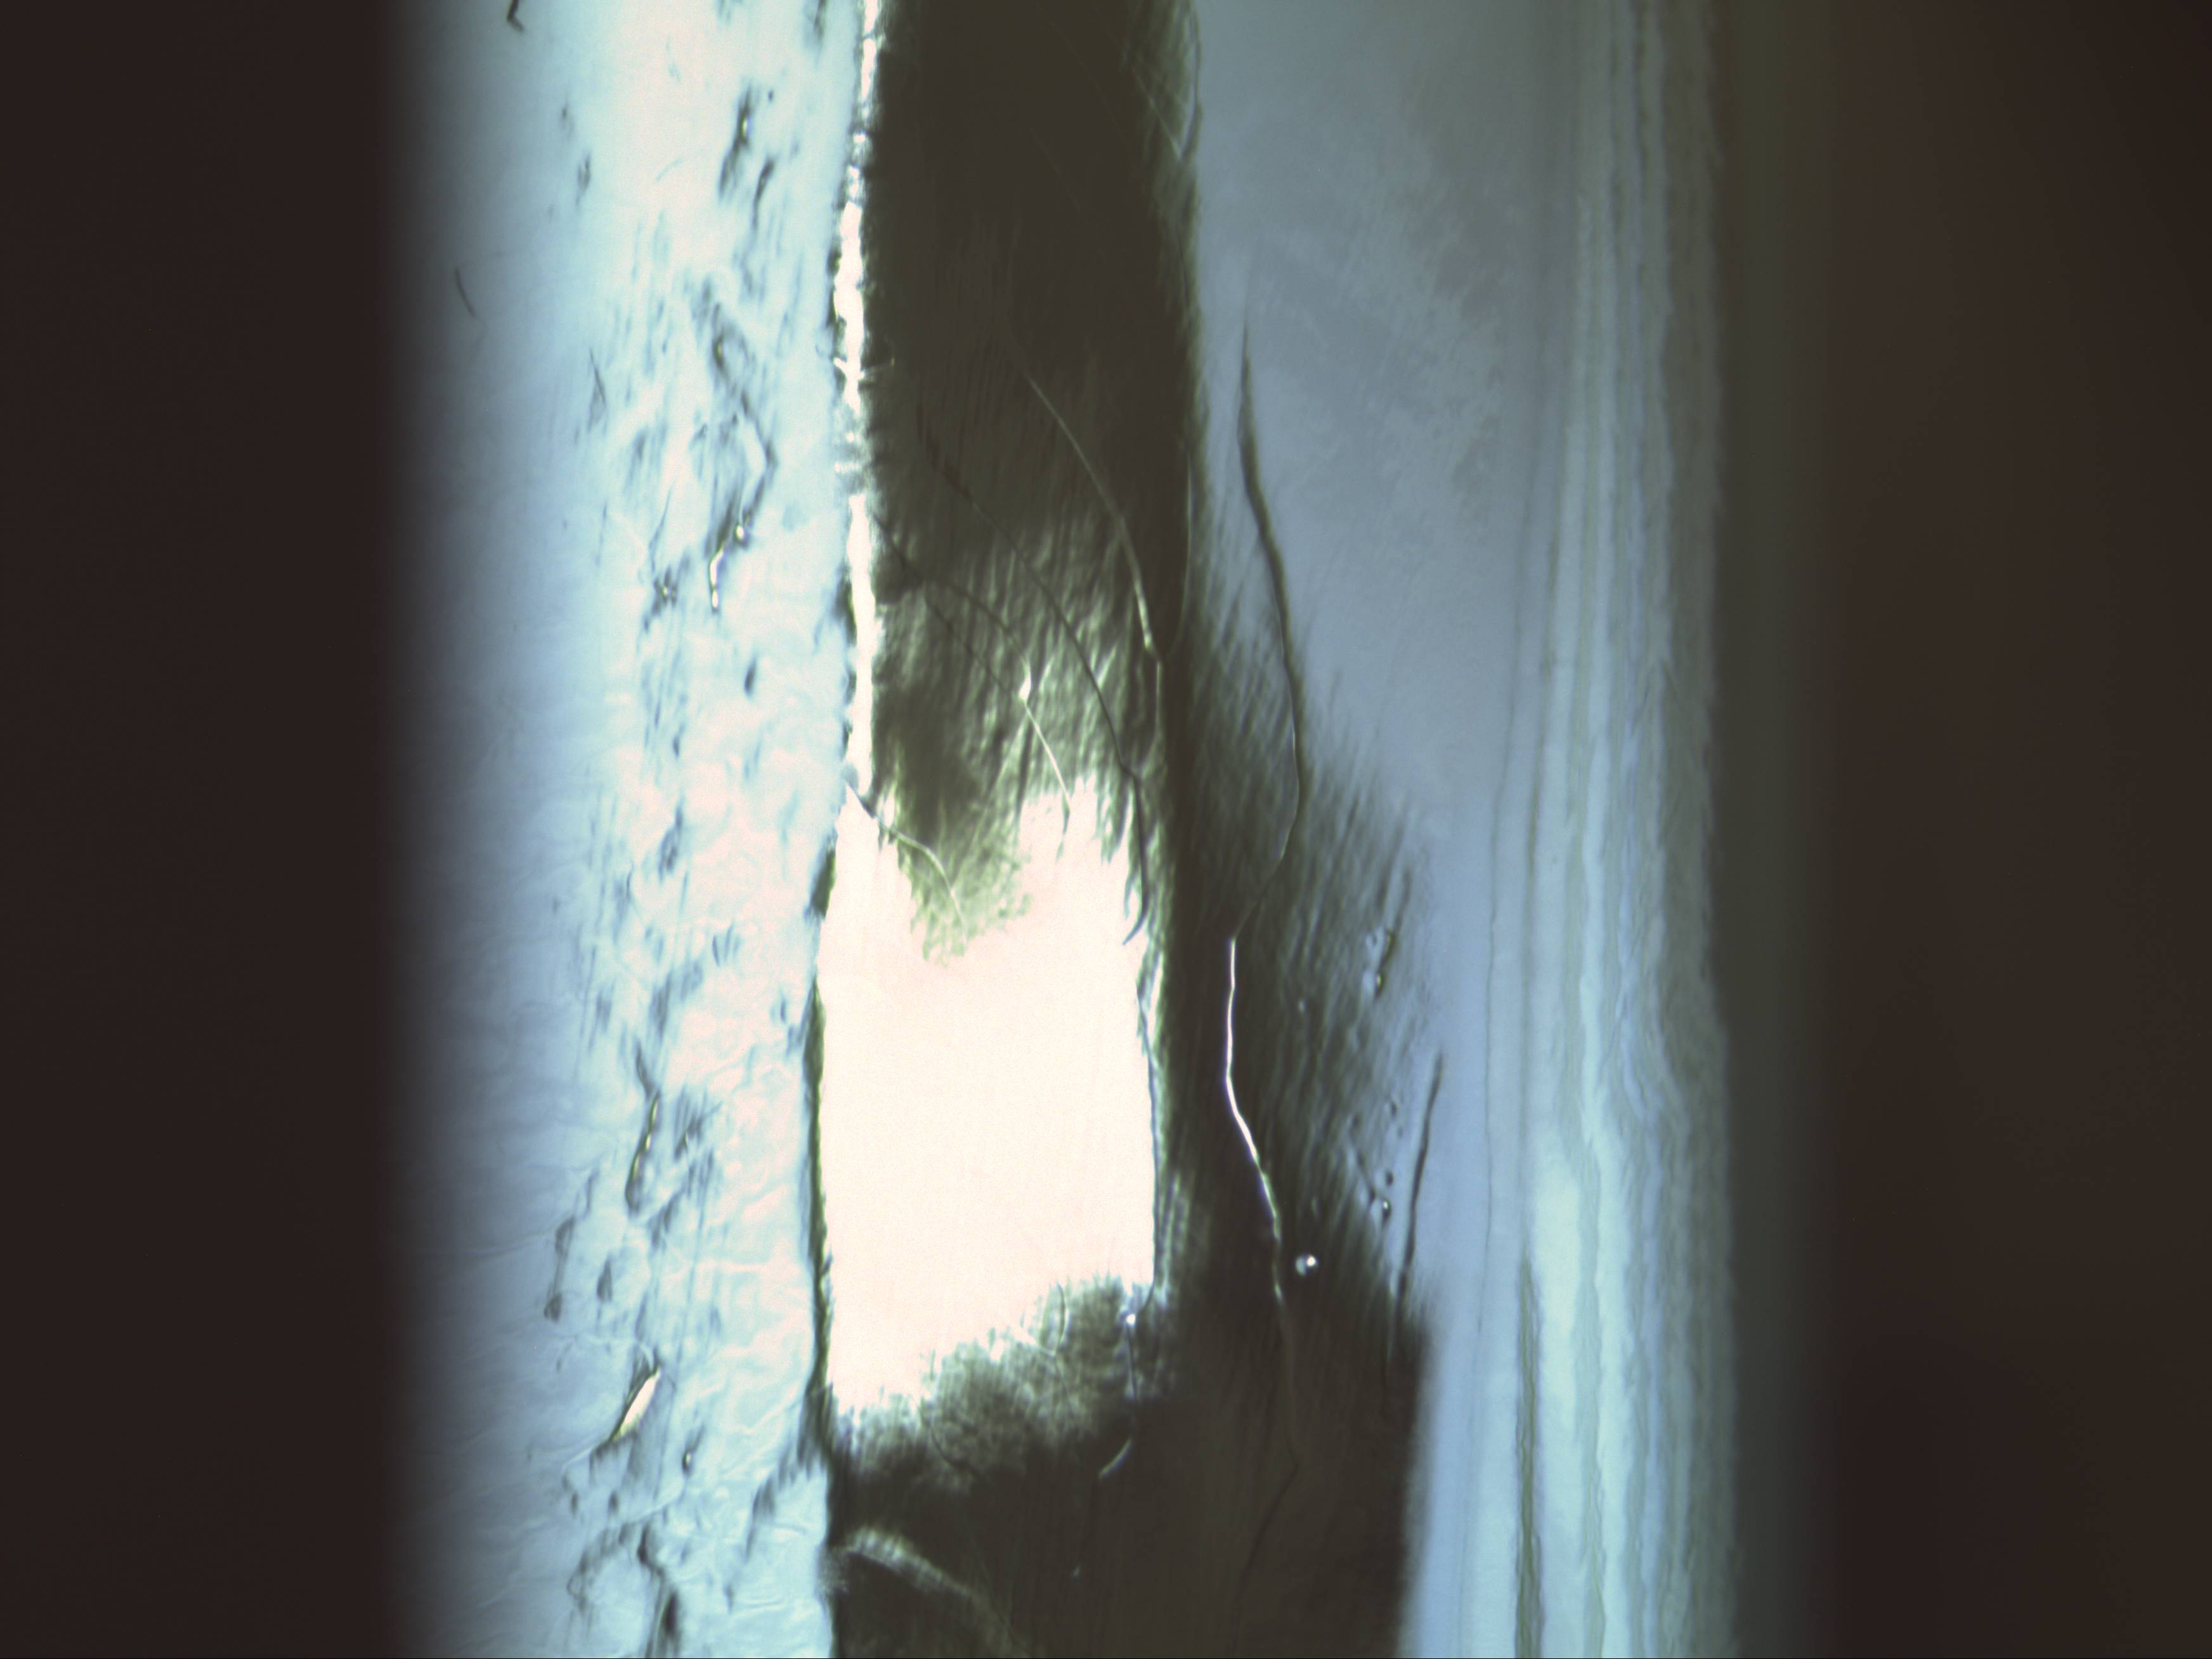defect: (1287, 1237, 1329, 1284)
